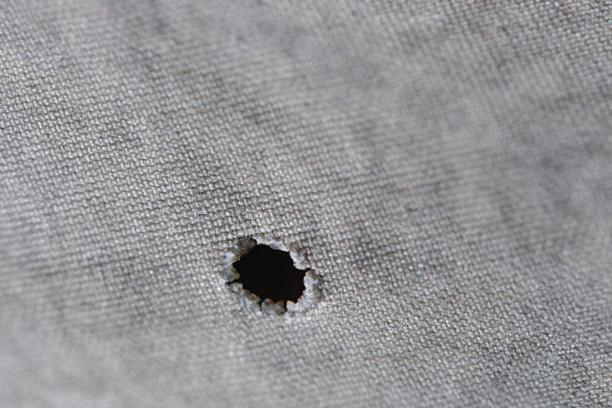hole: (220, 230, 328, 324)
